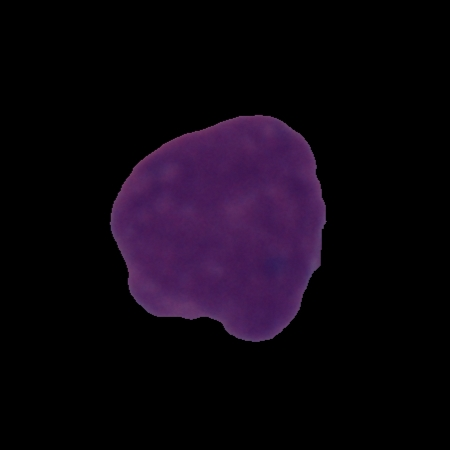ALL: (106, 109, 330, 345)
